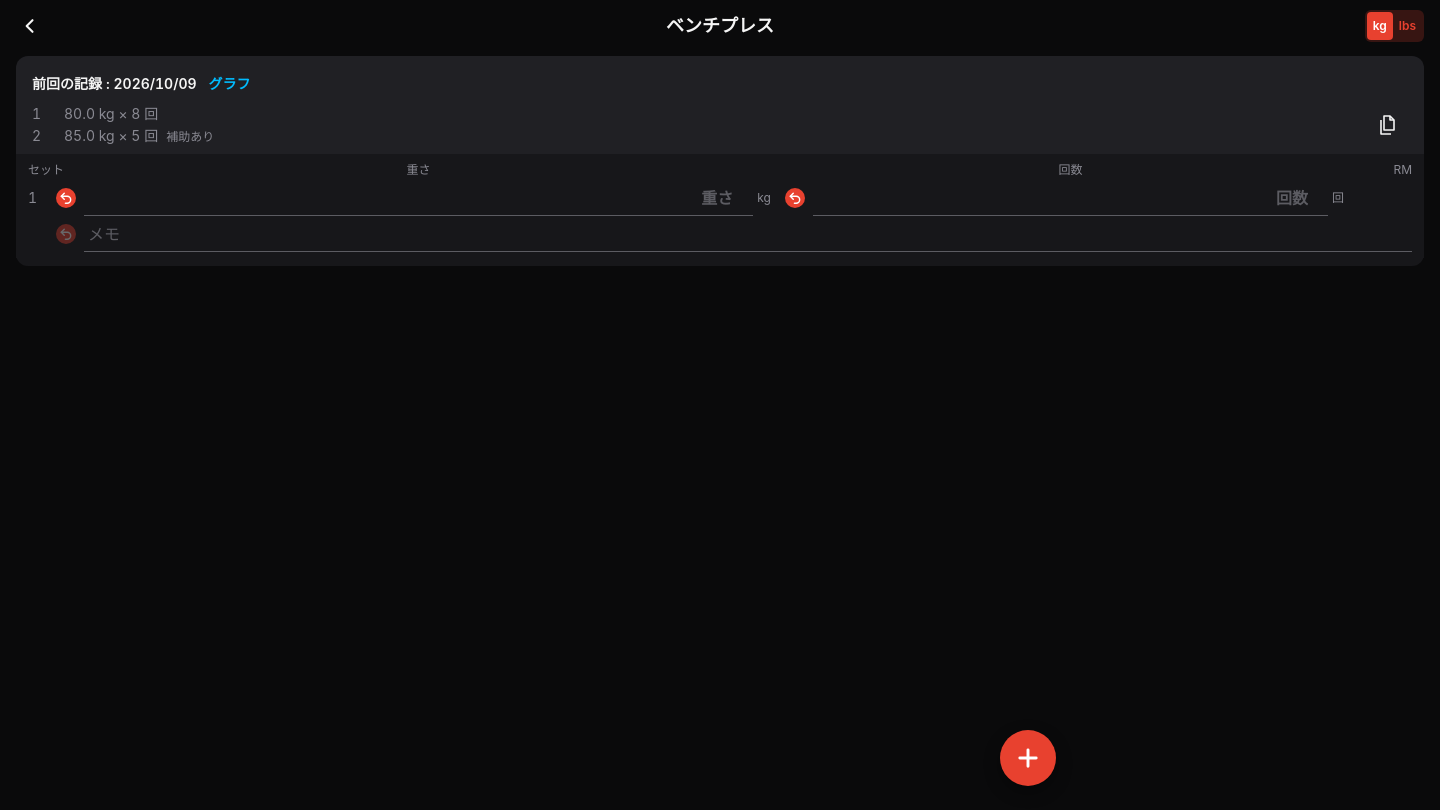
Test: LogPage list input › copies the previous workout into the rows
This screenshot has width=1440, height=810.
Click the button named "1セット目の重さを前回から写す".
click(66, 198)  # box [52, 180, 80, 216]
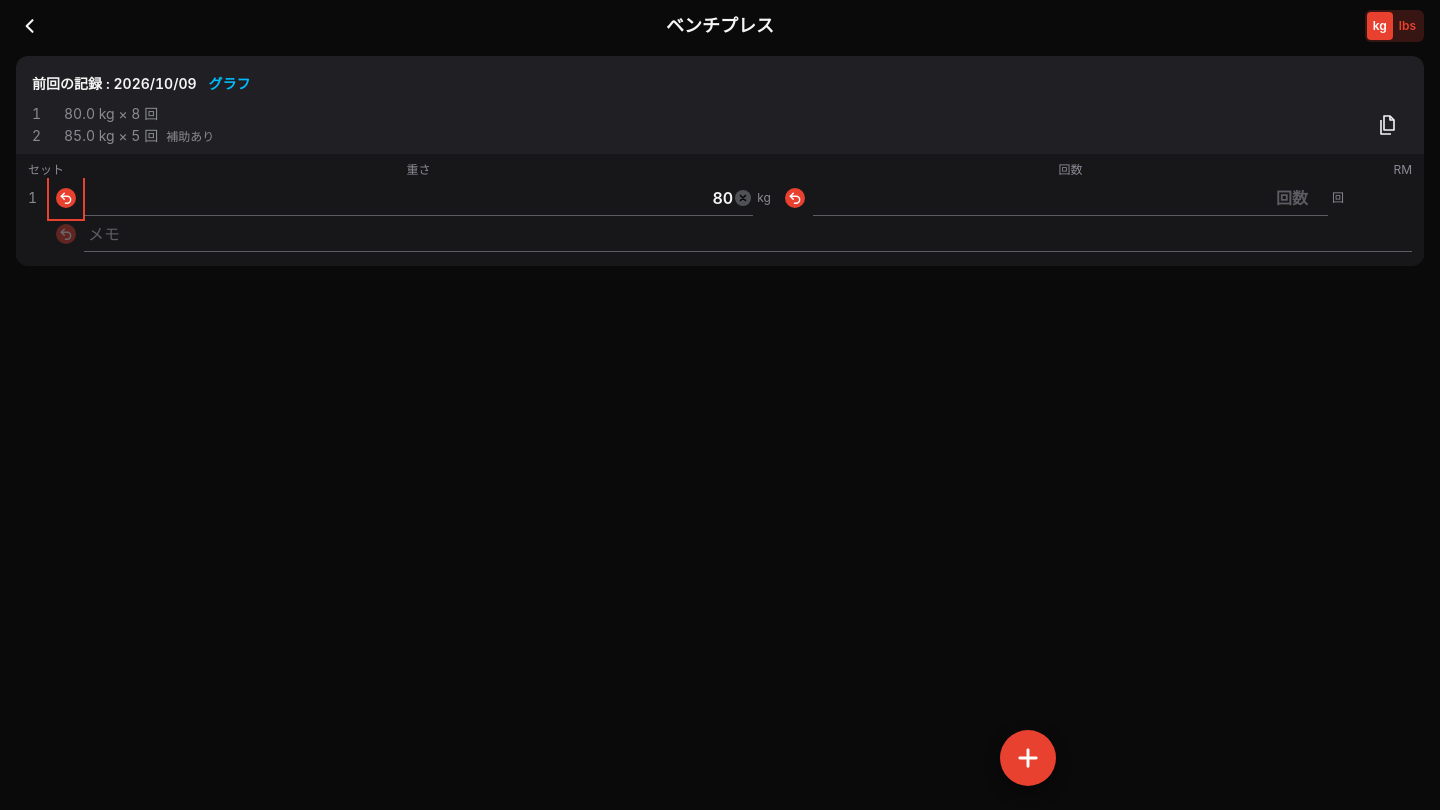
Expected: the field named "1セット目の重さ" holds "80", [84, 180, 753, 216]
Click the button named "前回の記録を写す".
click(1388, 125)  # box [1368, 105, 1408, 145]
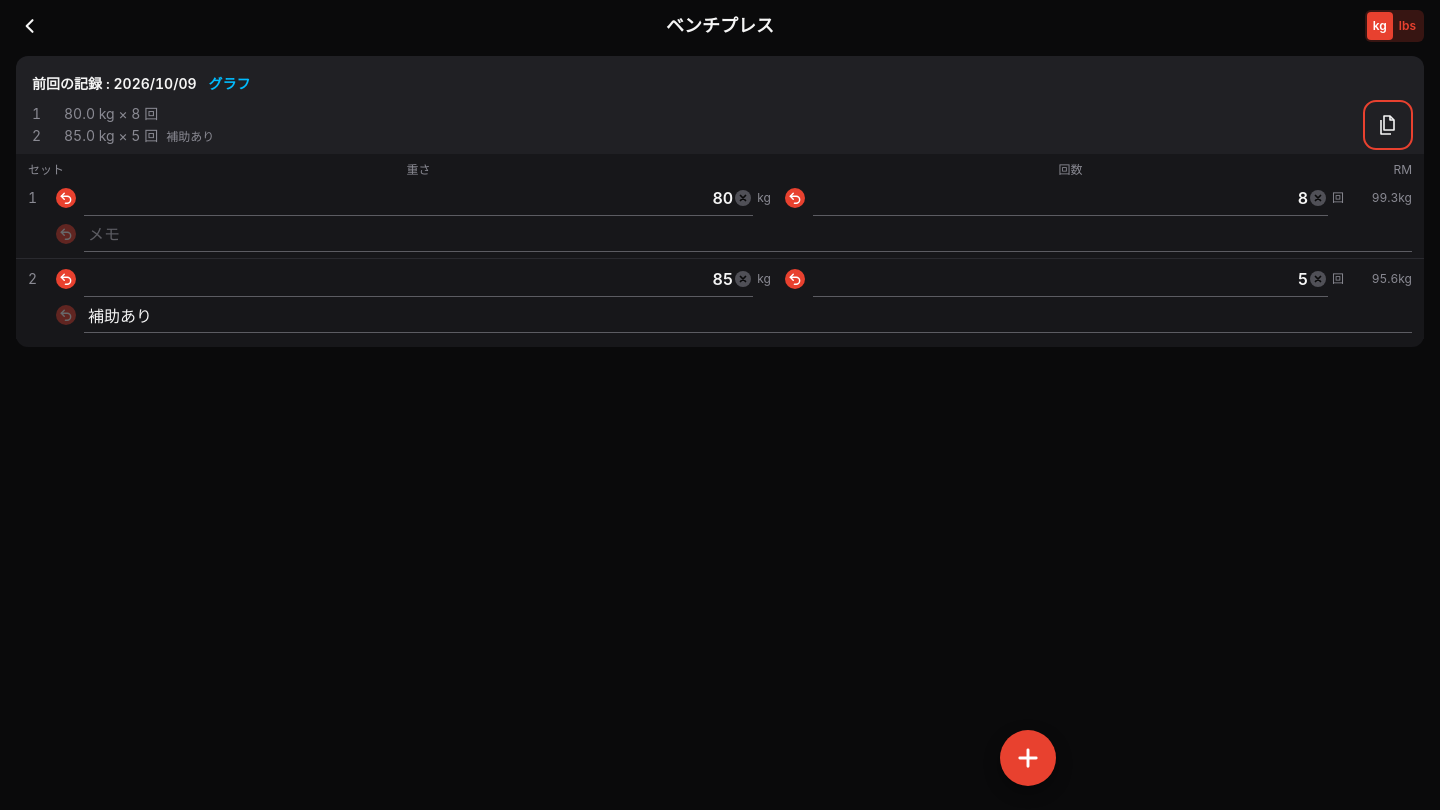
Expected: the field named "2セット目の重さ" holds "85", [84, 261, 753, 297]
Expected: the field named "2セット目のメモ" holds "補助あり", [84, 297, 1412, 333]
